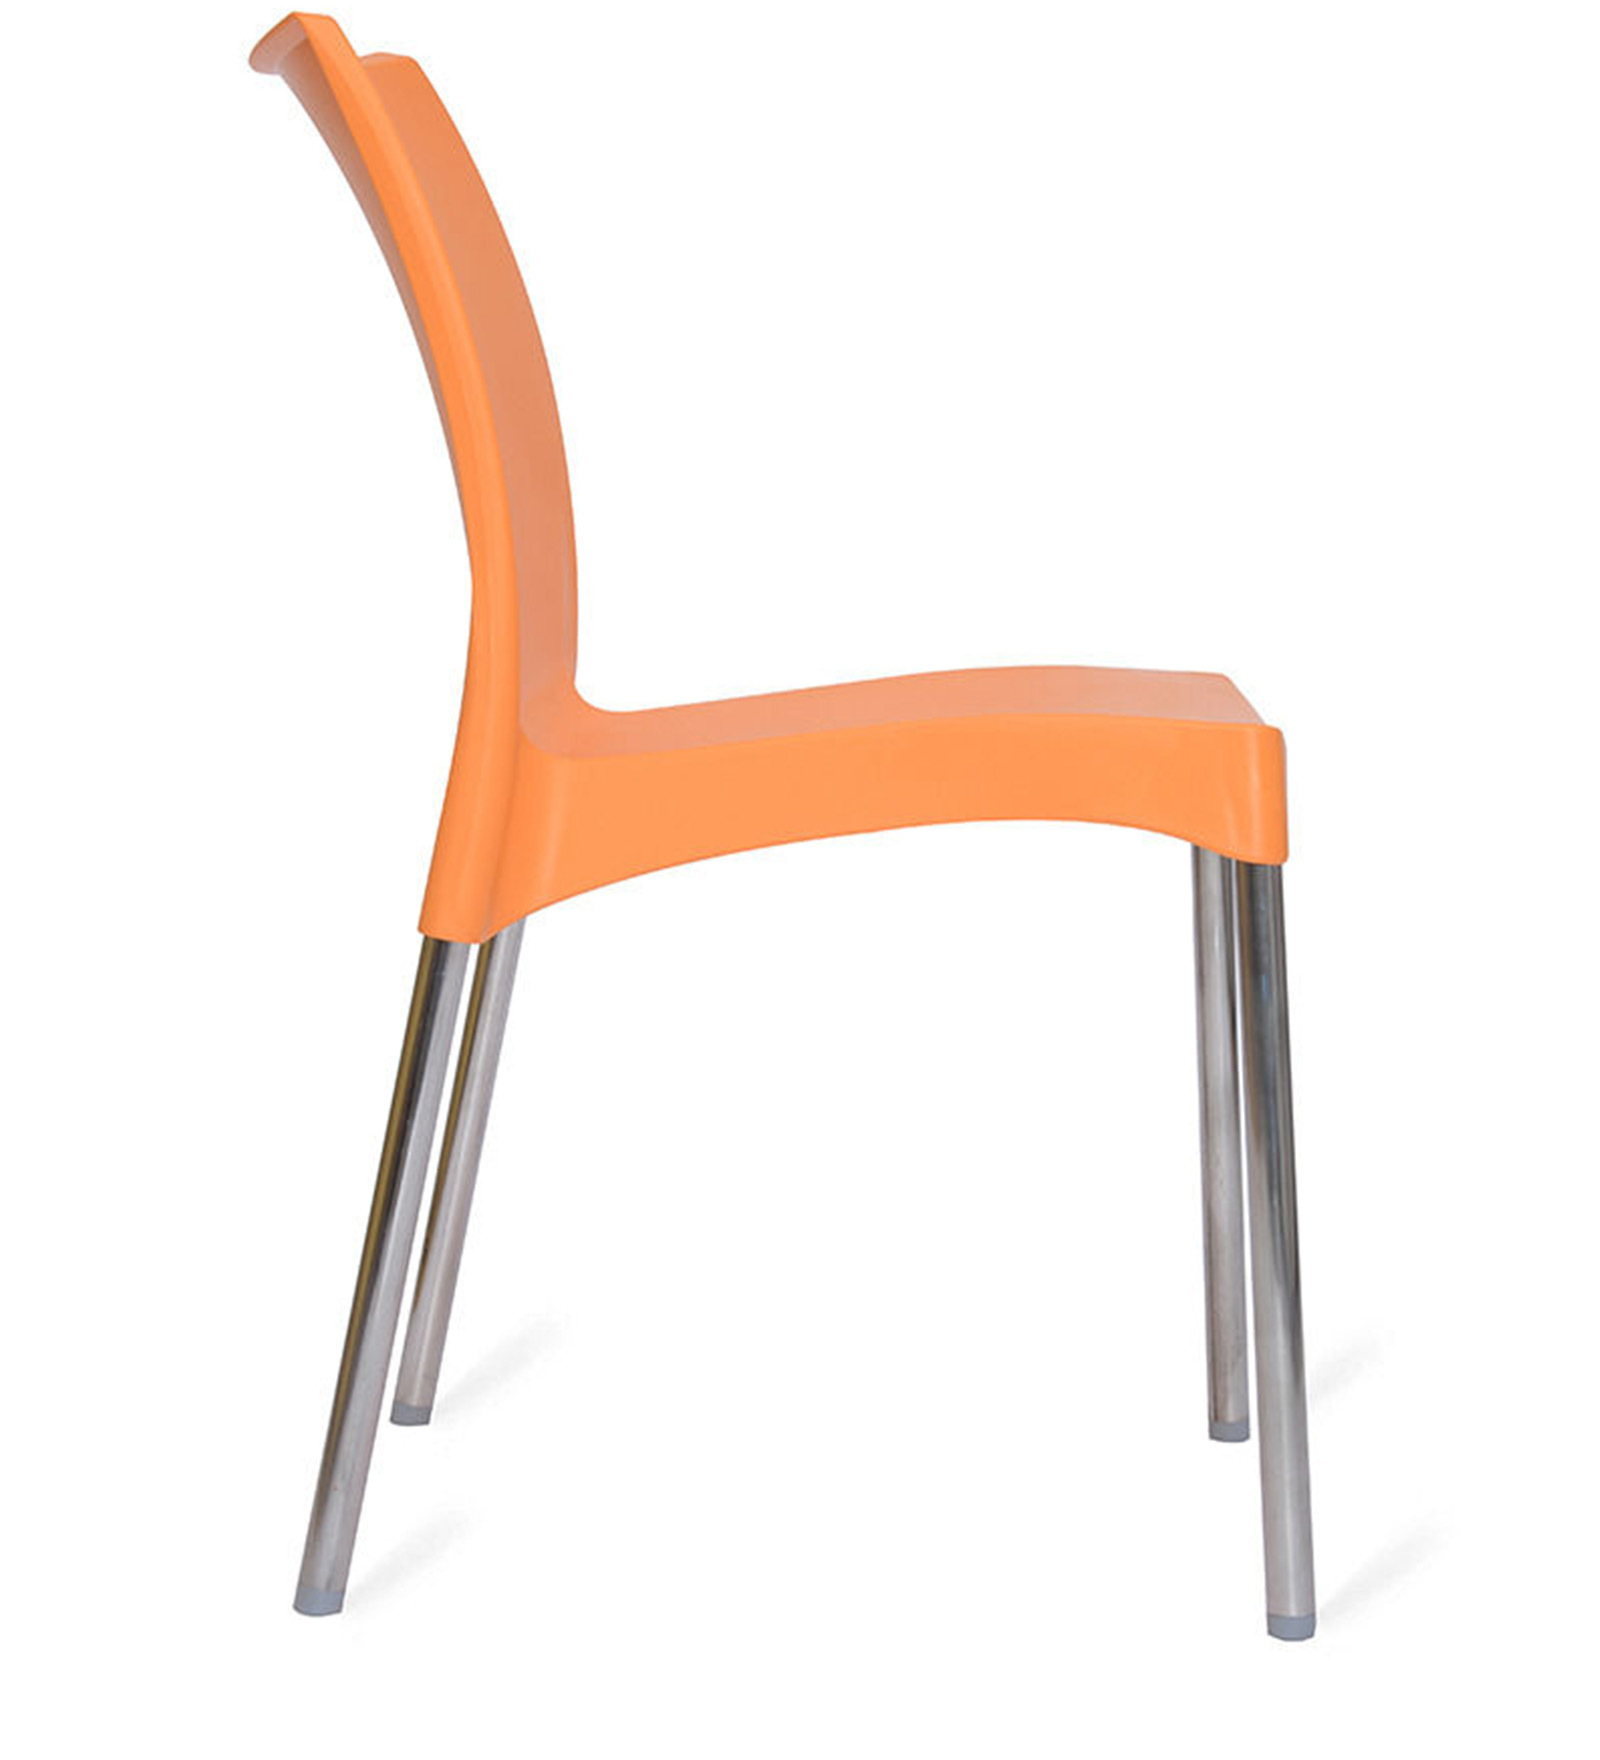Novella Plastic Chair in Orange by Nilkamal: (228, 8, 1329, 1660)
